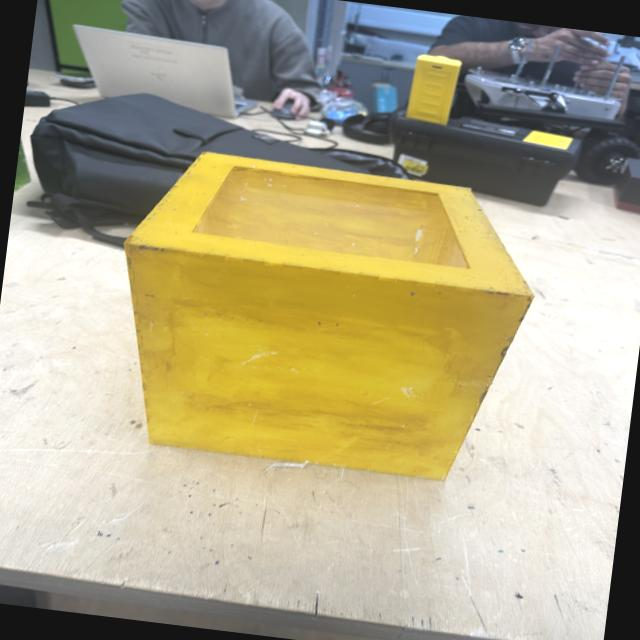yellow_bin: (100, 142, 547, 492)
